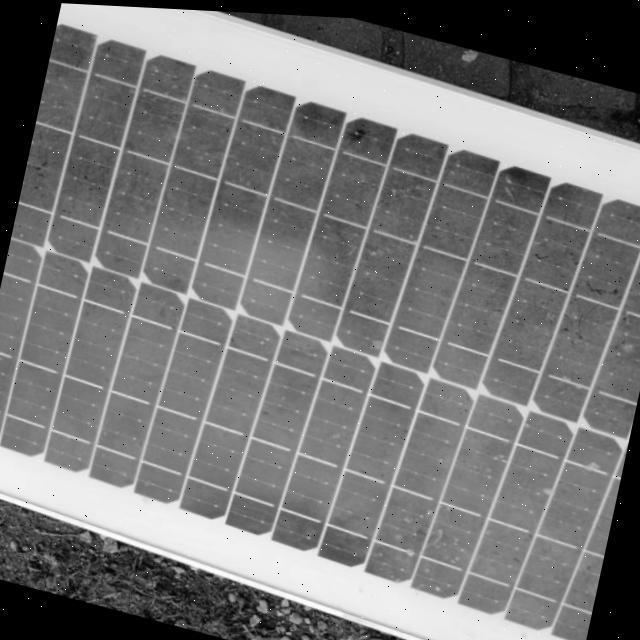Anomaly Solar Panel: (0, 21, 640, 618)
Surface Contaminant: (0, 23, 640, 616)
